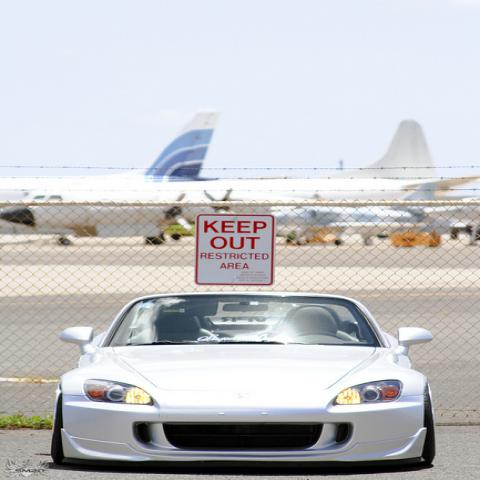car: (50, 294, 441, 462)
